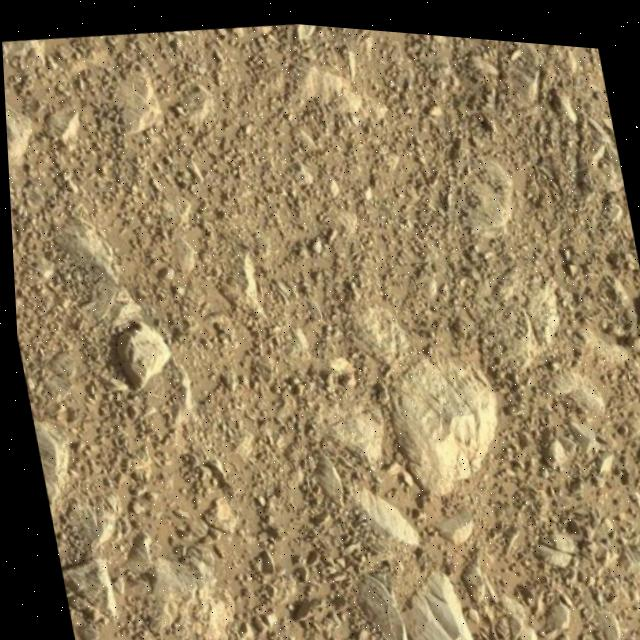mars-rocks: (110, 318, 165, 388)
